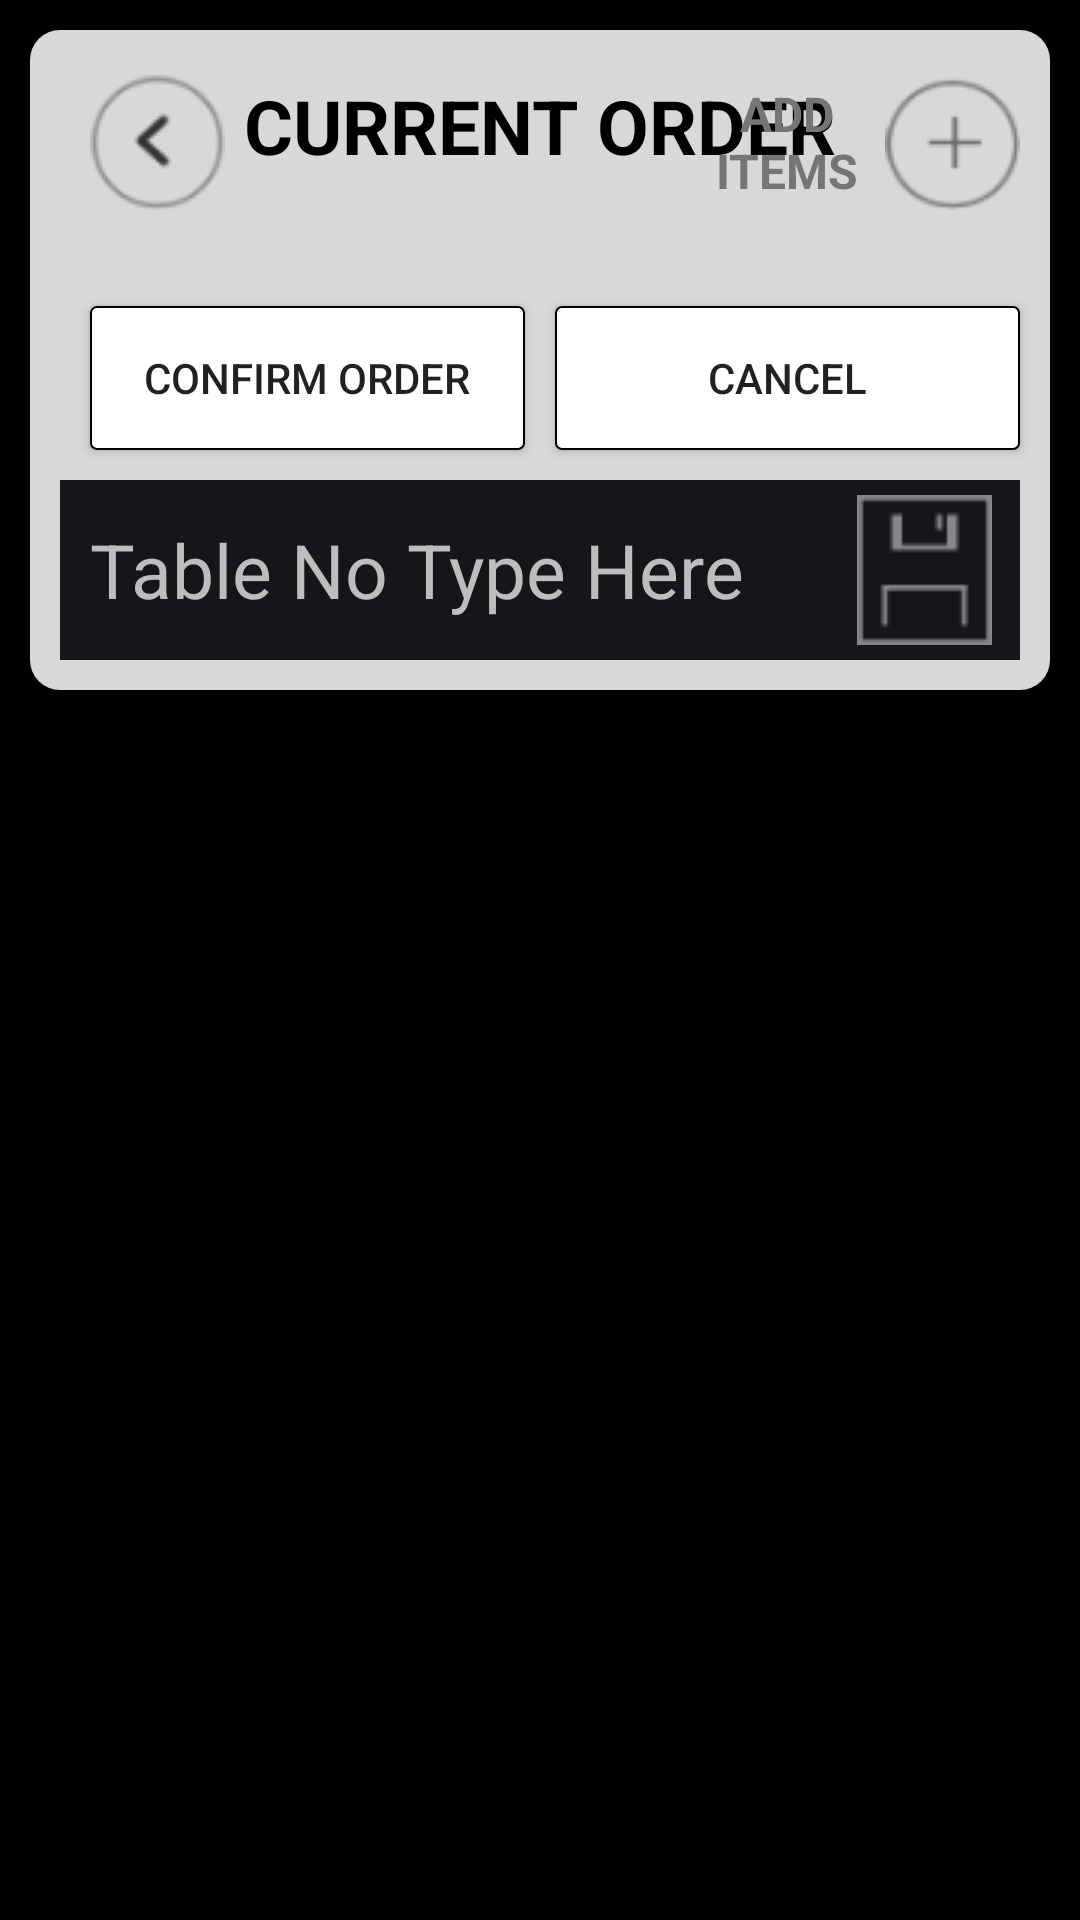

Point at icon controls on the screen. Image size 1080px×1920px, points as (x=x, y=y).
add order item: (x=952, y=145)
back: (x=156, y=141)
save order table: (x=924, y=570)
